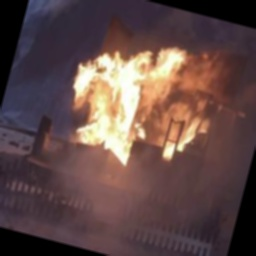fire: (53, 22, 235, 178)
